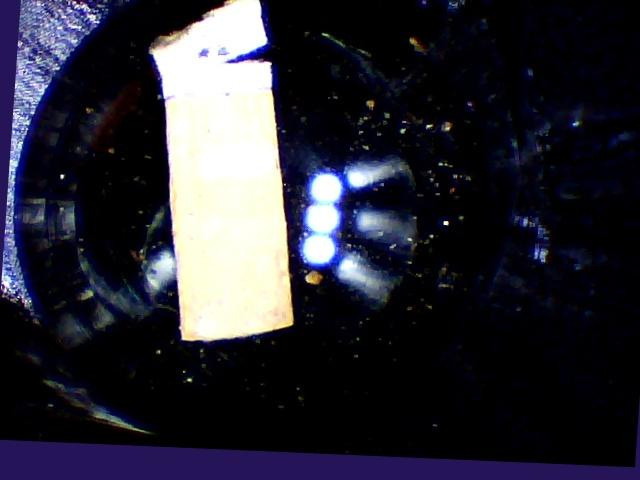megot: (110, 1, 333, 345)
